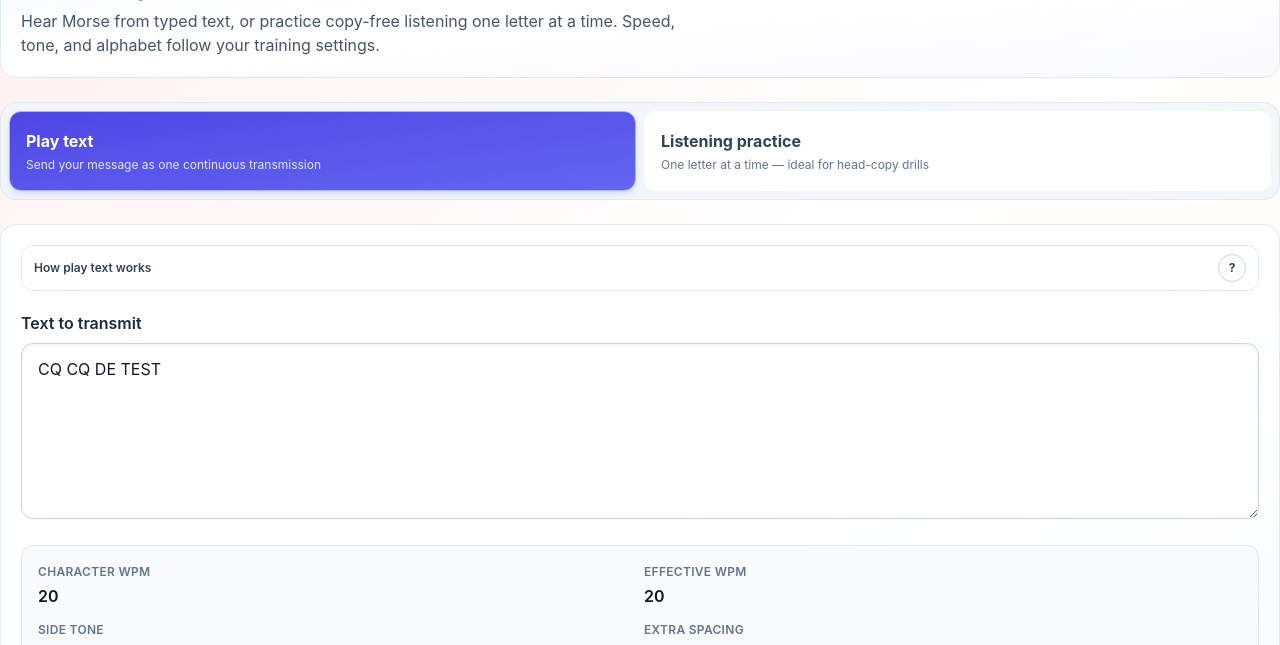
Test: TextPlayer › should show text entry in listening practice when using typed letters
The image size is (1280, 645).
Click the tab "Listening practice" at (731,141), box x1=644 y1=111 x2=1271 y2=191
(page scrolled)
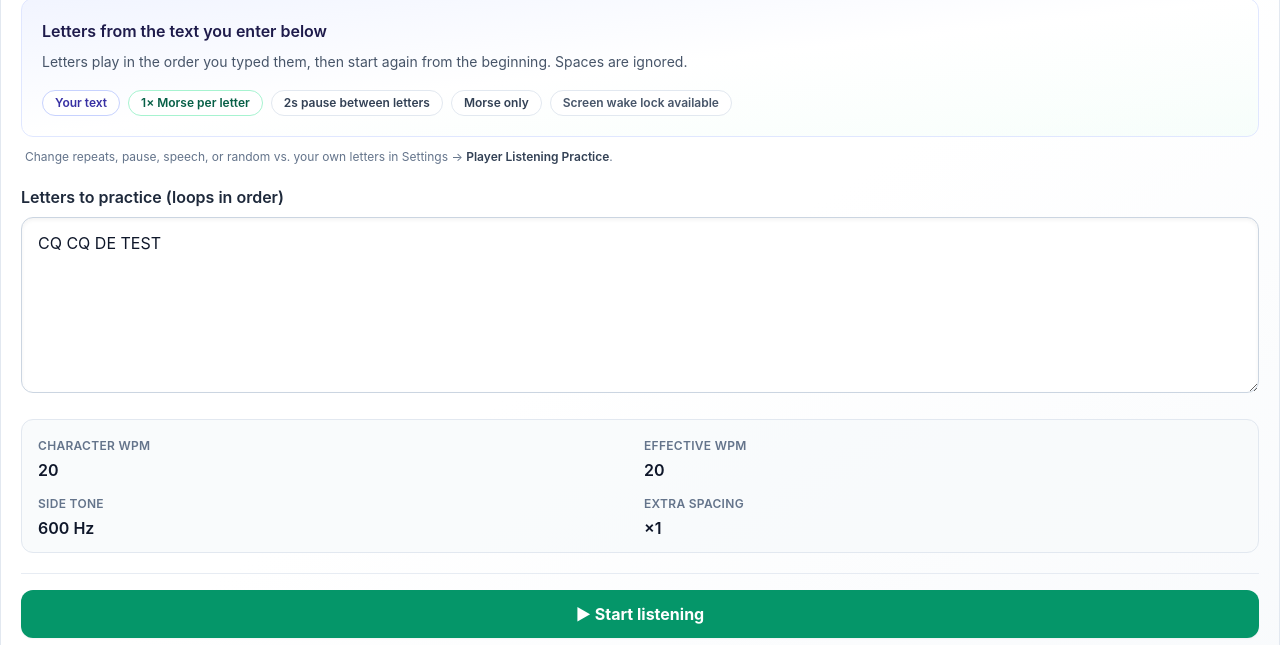
Now the text box with placeholder "e.g. ABCDE — spaces are ignored; one letter plays at a time" is shown, box x1=21 y1=217 x2=1259 y2=393
